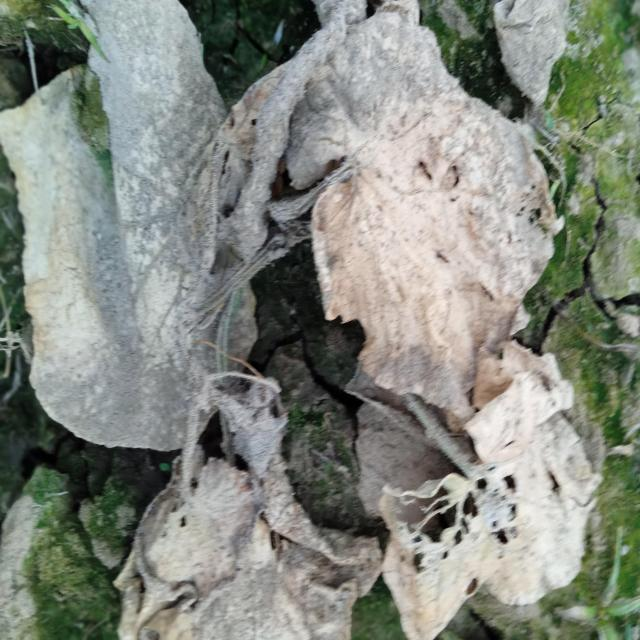cucumber_bacterial: (300, 35, 562, 384), (360, 395, 610, 637), (131, 367, 350, 640), (153, 70, 290, 324)
